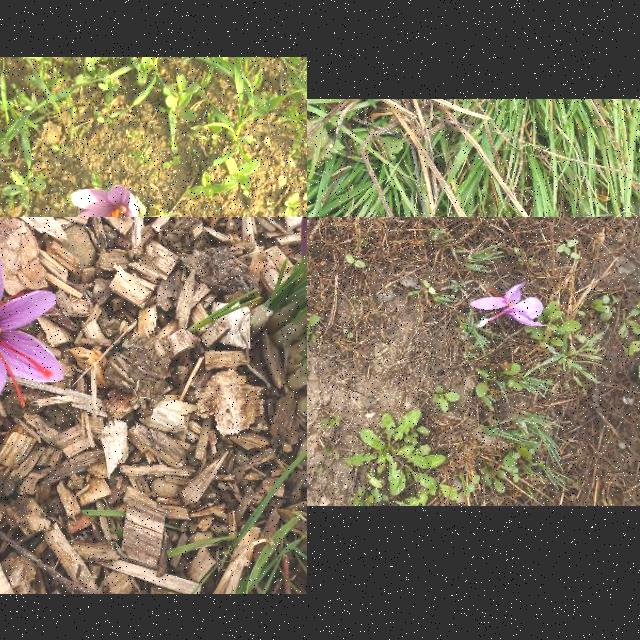flower: (0, 223, 66, 409), (470, 283, 548, 327), (70, 185, 139, 217)
